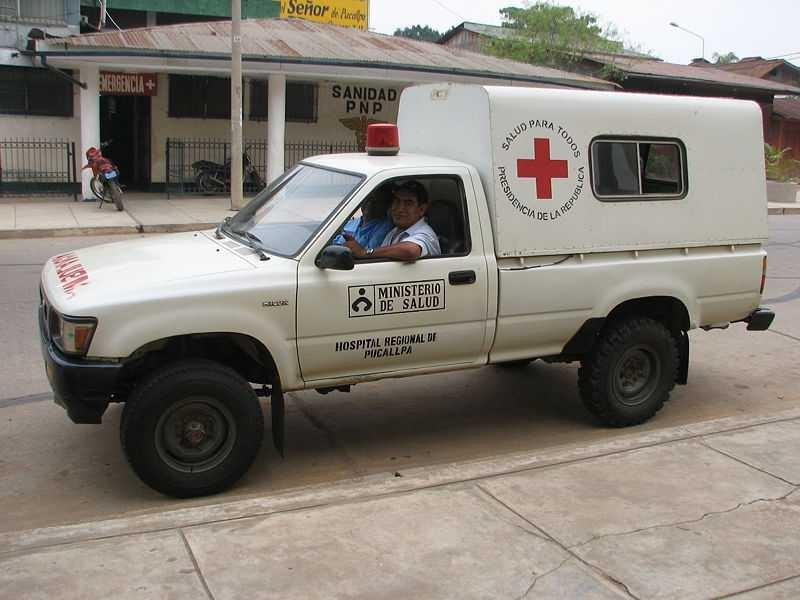car: (36, 80, 775, 498)
